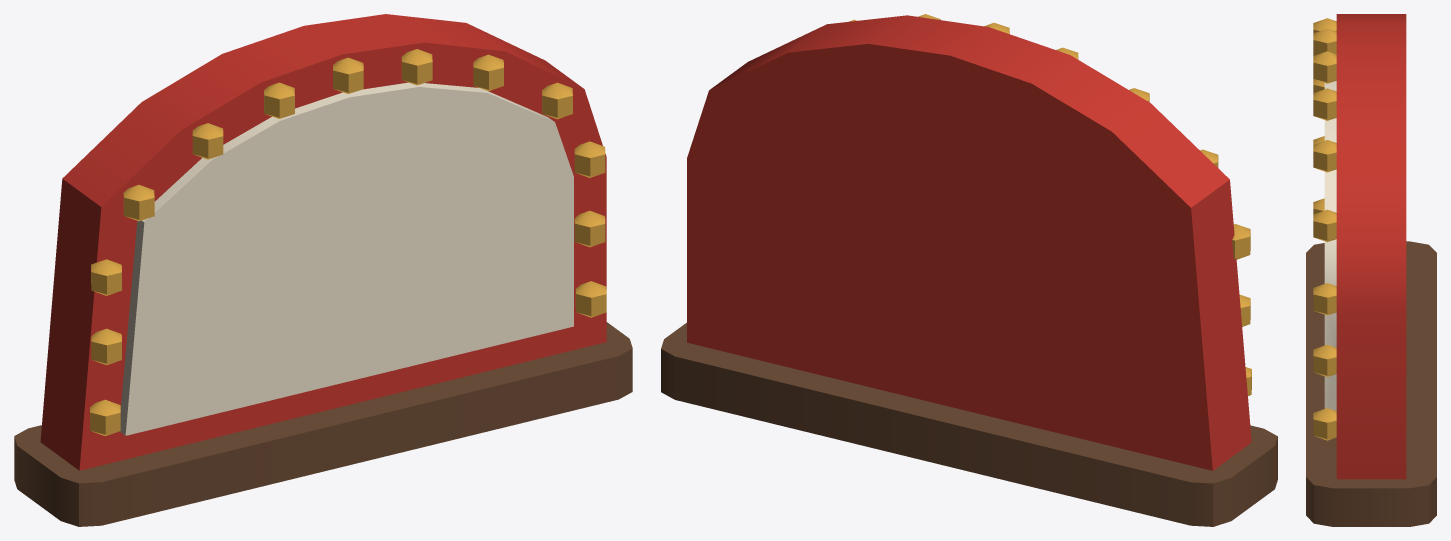
Rendered from marquee-bulb-arch.glb.
3 views of the same model, side by side, from view 1: azimuth 30°, elevation 25°; view 2: azimuth 150°, elevation 25°; view 3: azimuth 270°, elevation 25° (orthographic). The views are drawn at different scales.
Visible parts, largest first — view 1: marquee-bulb-arch; view 2: marquee-bulb-arch; view 3: marquee-bulb-arch.
Part boxes in pixels (x1=…): marquee-bulb-arch: x1=14, y1=14, x2=632, y2=526; marquee-bulb-arch: x1=661, y1=14, x2=1277, y2=526; marquee-bulb-arch: x1=1306, y1=14, x2=1436, y2=526.
Size of the model in its own units: 4.38 by 2.91 by 0.98.
Materials: 1 (1 with a texture image).
